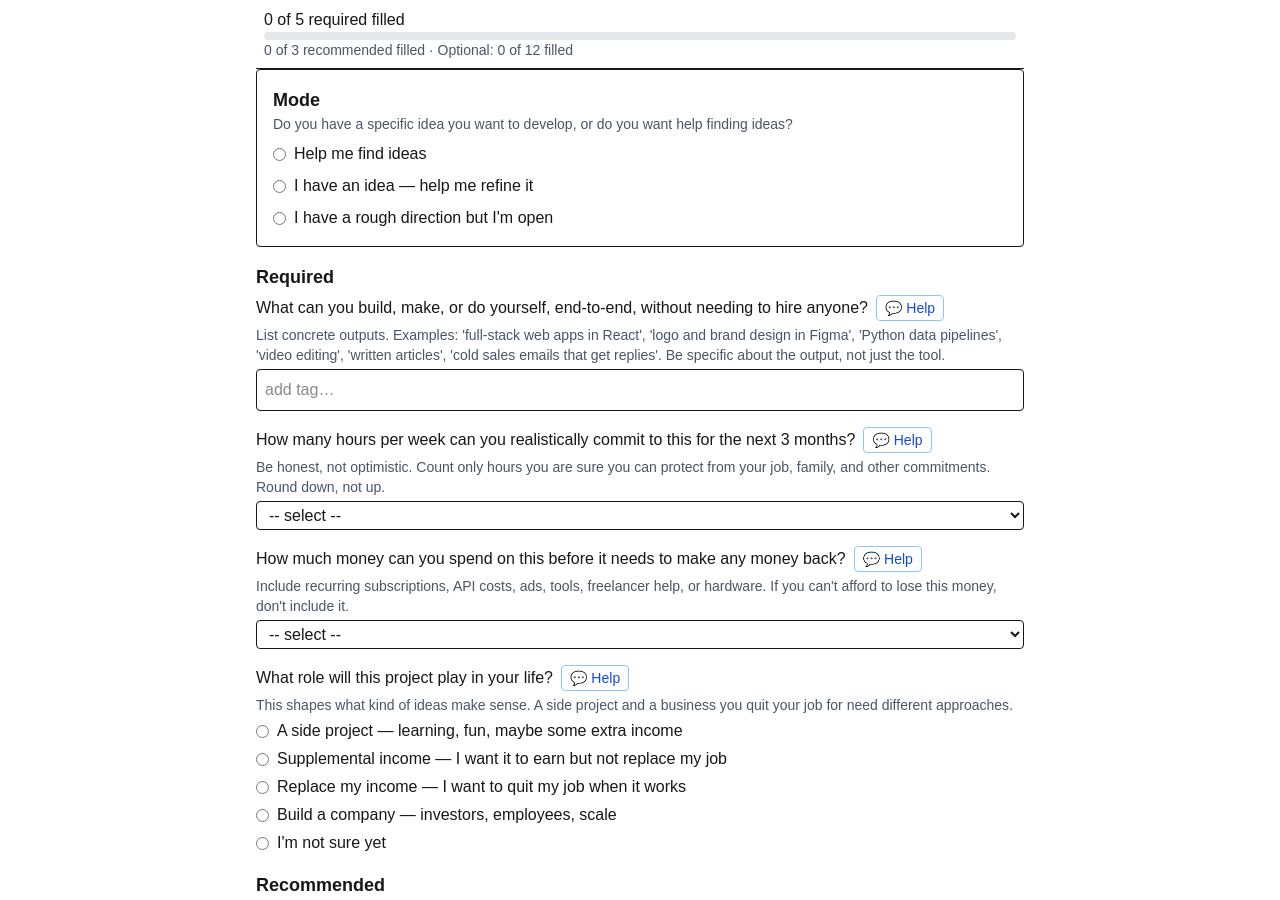
Test: ProfileForm › clicking help opens the chat drawer
Click the 1st button "💬 Help". click: point(910, 308)
box: [876,295,944,321]
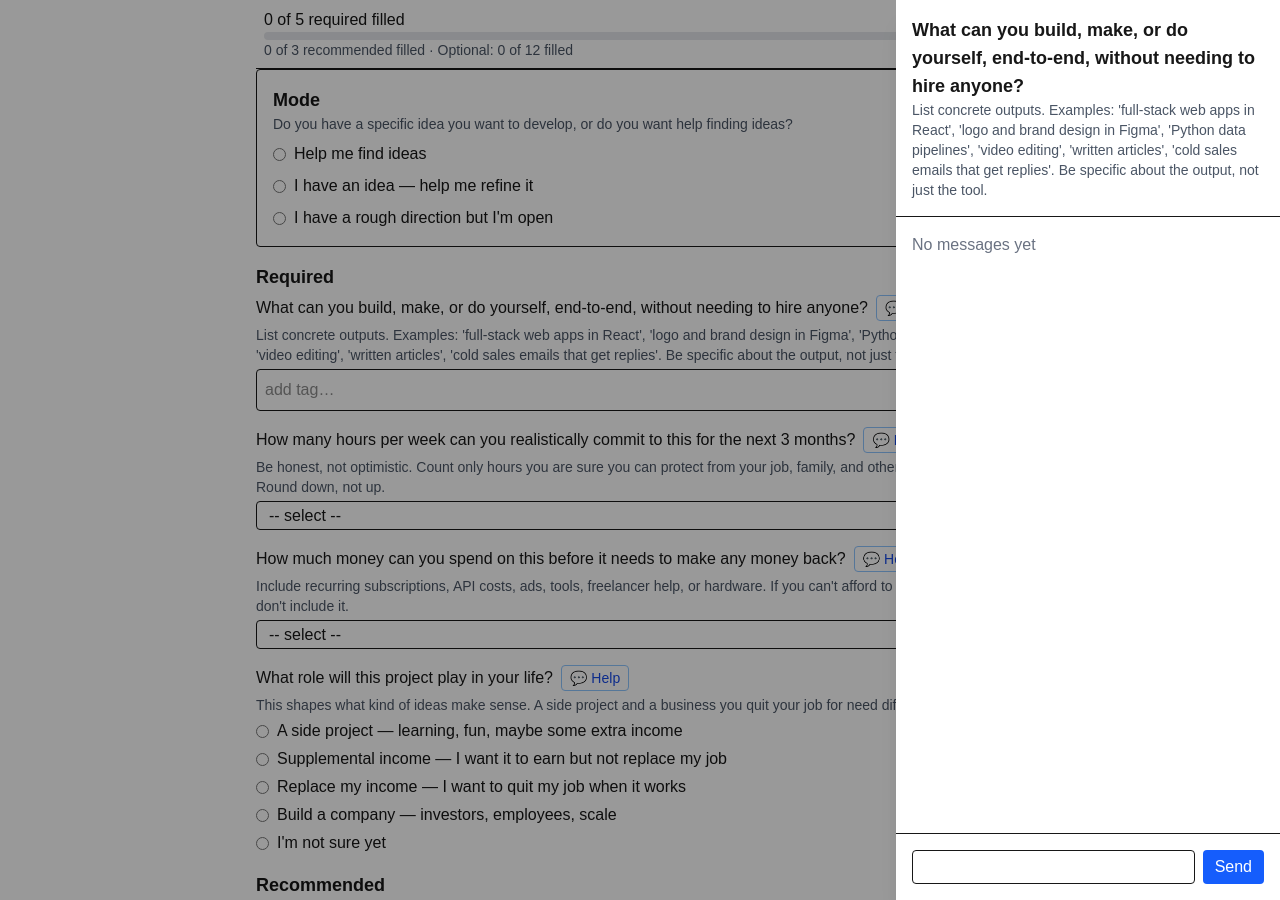
expect the dialog named "field help" is shown: met, box [896,0,1279,899]
